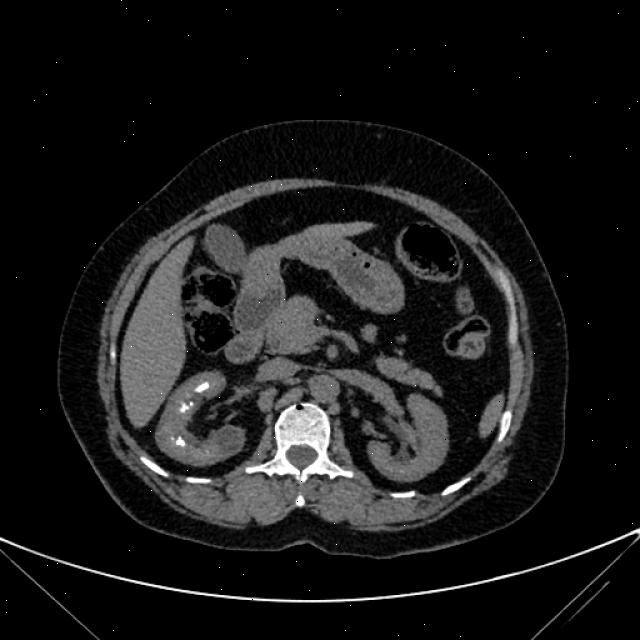kidneystone: (194, 381, 210, 393), (179, 402, 190, 413), (175, 436, 185, 446)
